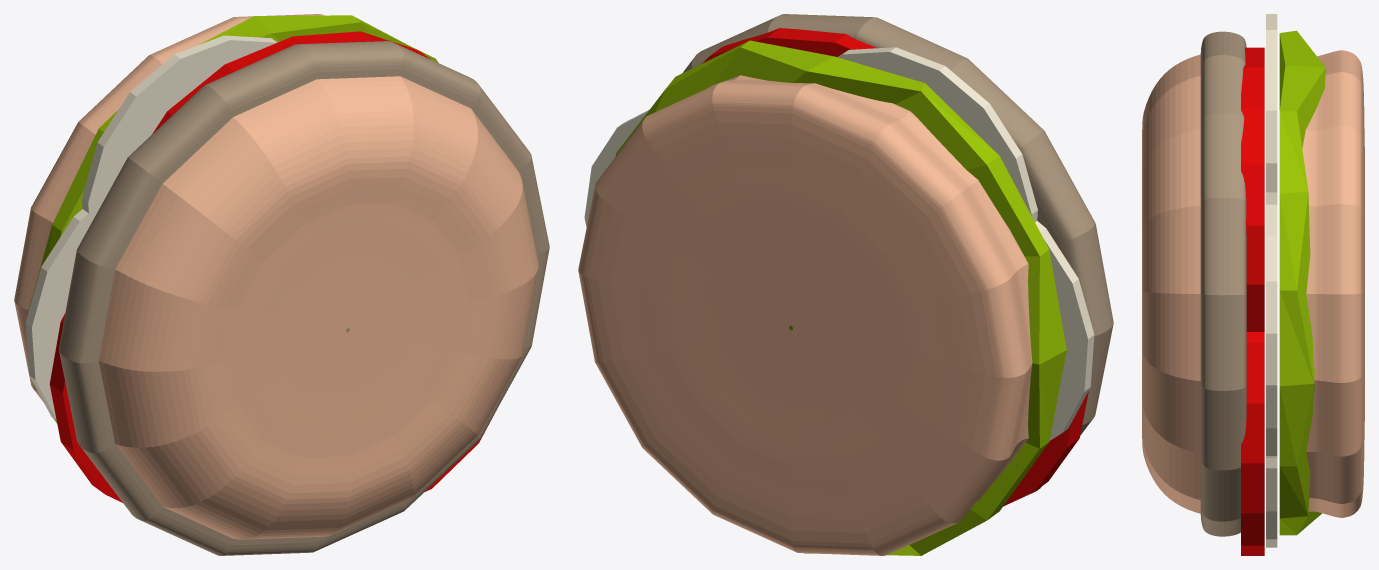
Rendered from HAMBURGR.glb.
3 renders of one model, left to right at view 1: azimuth 30°, elevation 25°; view 2: azimuth 150°, elevation 25°; view 3: azimuth 270°, elevation 25°, orthographic. The views are drawn at different scales.
Parts seen in each view (by area): view 1: _0; view 2: _0; view 3: _0.
Boxes of the visible parts, left/top/right/bottom form: _0: left=14, top=14, right=549, bottom=555; _0: left=578, top=14, right=1113, bottom=555; _0: left=1142, top=14, right=1364, bottom=555.
Bounding box in the file's own units: 7.92 × 7.59 × 3.32.
